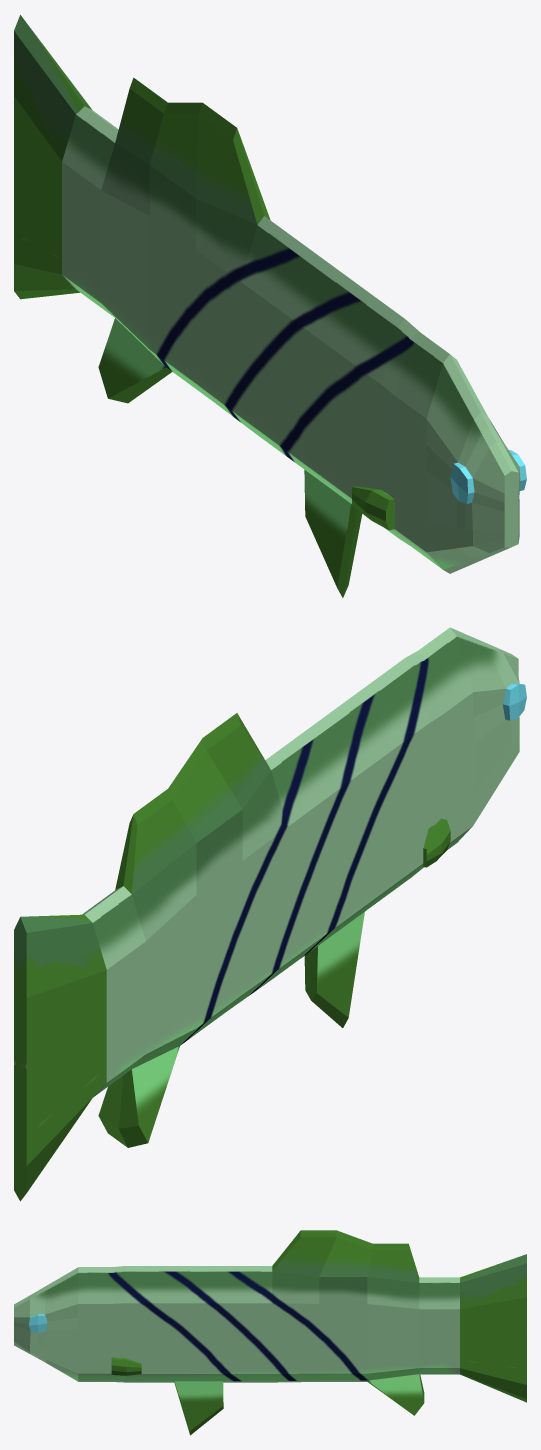
Rendered from fish1.fbx.
The picture shows the model from 3 angles, top to bottom: view 1: azimuth 30°, elevation 25°; view 2: azimuth 150°, elevation 25°; view 3: azimuth 270°, elevation 25°; orthographic projection. The views are drawn at different scales.
Visible parts, largest first — view 1: Cube; view 2: Cube; view 3: Cube.
Part boxes in pixels (x1,y1,x2,y2): Cube: (14,15,526,597); Cube: (14,627,526,1201); Cube: (14,1230,526,1435).
Size of the model in its own units: 13.52 by 66.09 by 150.
1 material, 1 textured.
